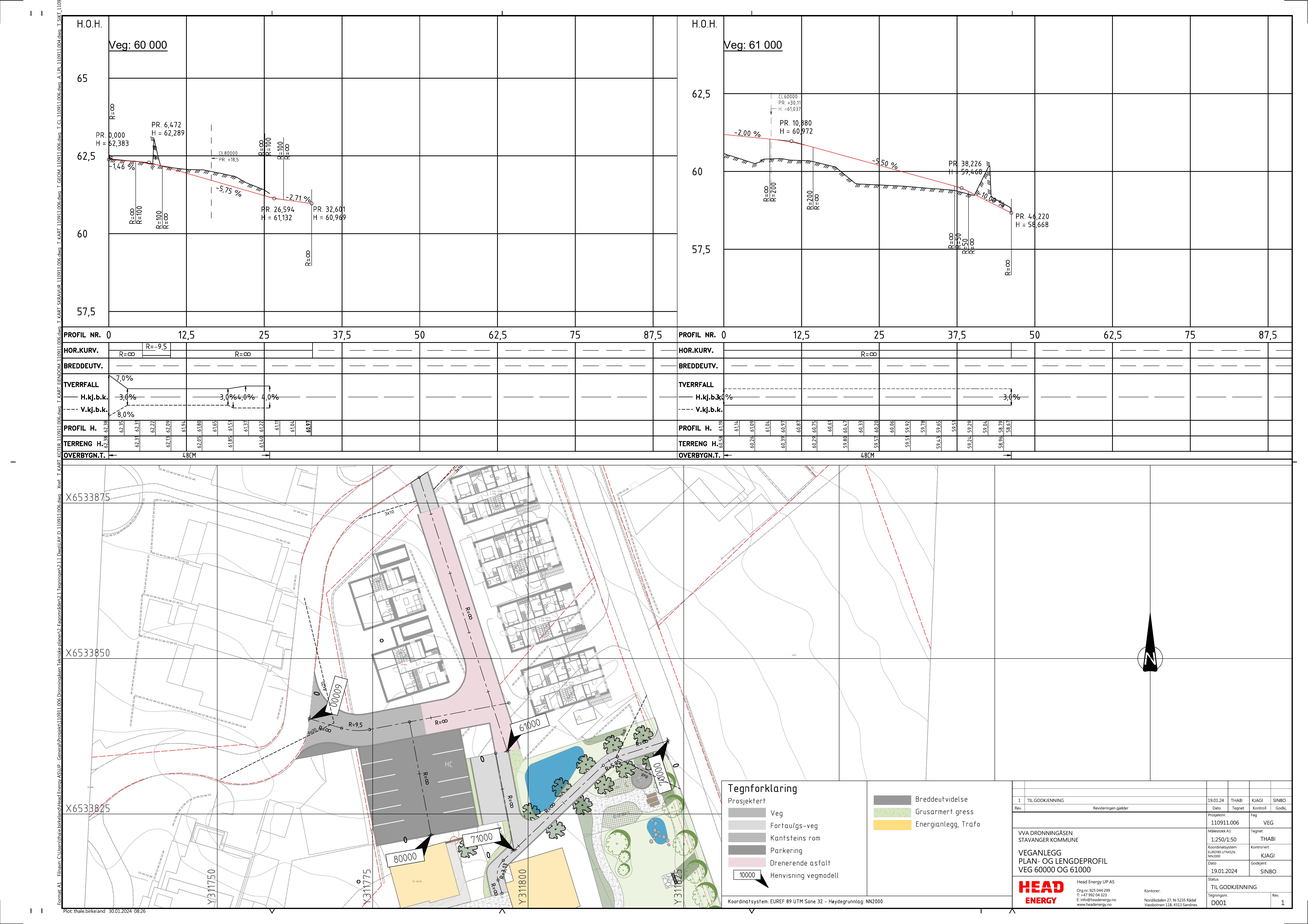situasjonskart: (217, 467, 685, 907)
